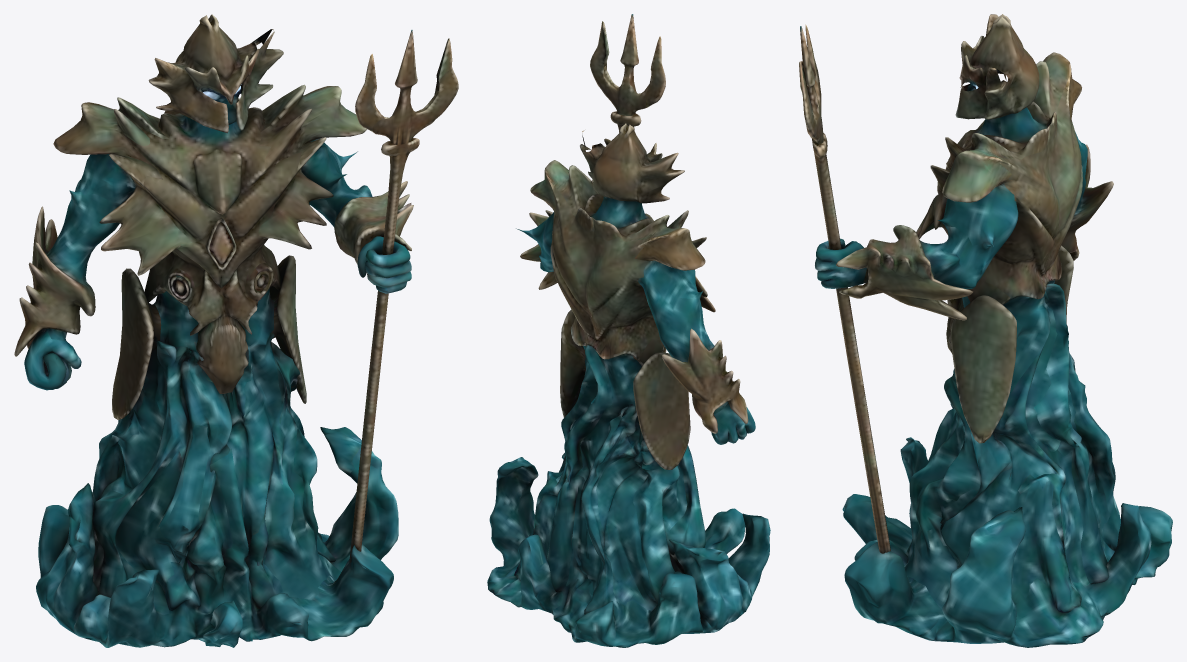
File: MZ4250 - Water Elemental Myrmidon.glb
The picture shows the model from 3 angles, left to right: view 1: azimuth 30°, elevation 25°; view 2: azimuth 150°, elevation 25°; view 3: azimuth 270°, elevation 25°; orthographic projection. The views are drawn at different scales.
Parts seen in each view (by area): view 1: Trident.001; view 2: Trident.001; view 3: Trident.001.
Part boxes in pixels (<box>): Trident.001: <box>14,14,458,647</box>; Trident.001: <box>487,14,770,647</box>; Trident.001: <box>799,14,1172,647</box>.
Bounding box in the file's own units: 0.7742 × 1.35 × 0.7532.
Materials: 1 (1 with a texture image).
